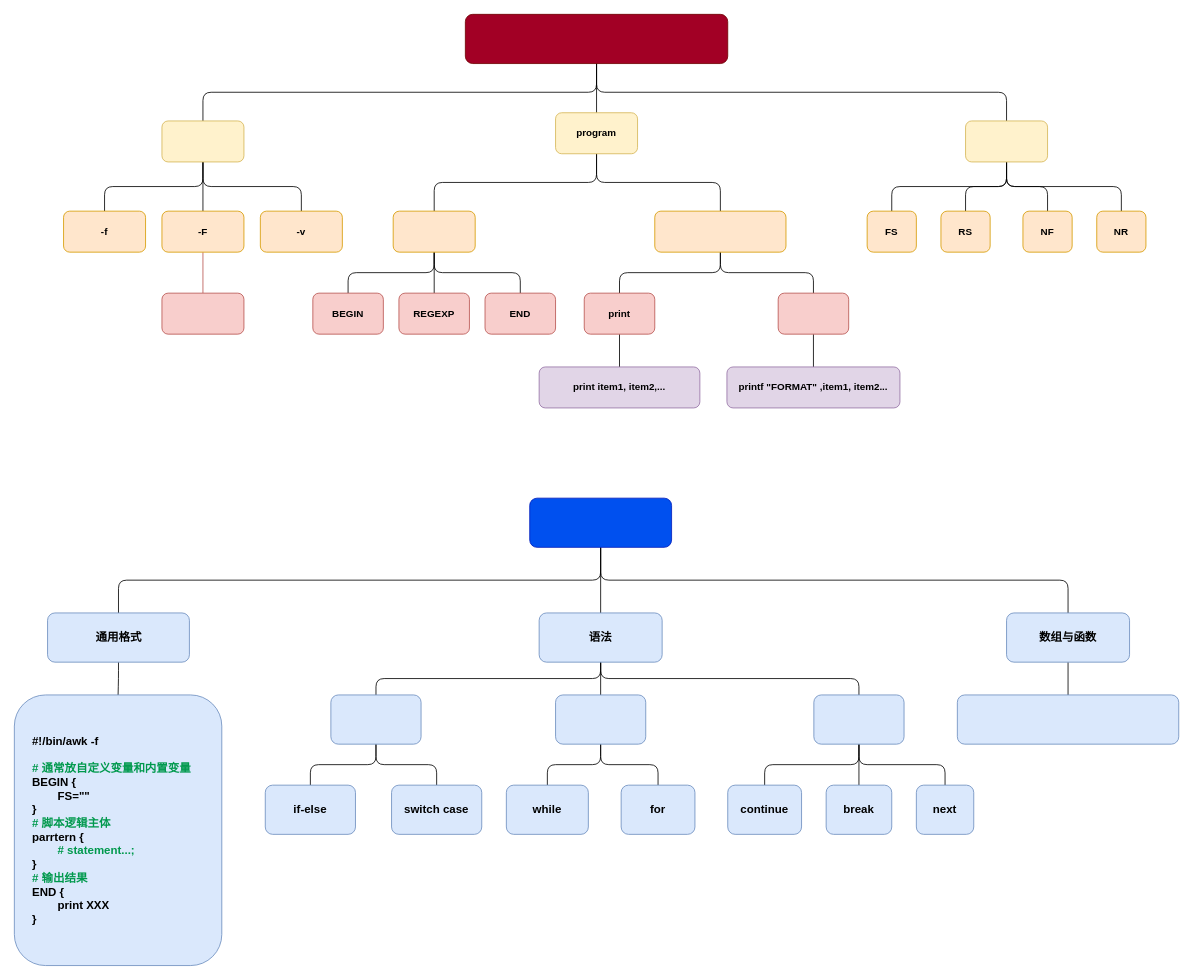
Some shapes in this 1193 by 980 pixel diagram are drawn without their labels. The centre of each missing label's shape, as x and y in pixels:
-F" +|%": (202,313)
action statements: (720,231)
awk [options] 'program' var=value file...: (596,39)
AWK脚本: (600,522)
options: (202,141)
pattern: (433,231)
printf: (813,313)
var: (1006,141)
分支: (375,719)
和shell不同，这里调用函数加(): (1068,719)
循环: (600,719)
流程控制: (858,719)
